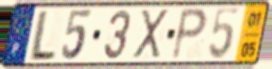3: (101, 9, 132, 62)
5: (207, 6, 243, 62), (60, 8, 95, 63)
L: (26, 8, 59, 63)
P: (169, 6, 210, 62)
X: (131, 8, 170, 61)
